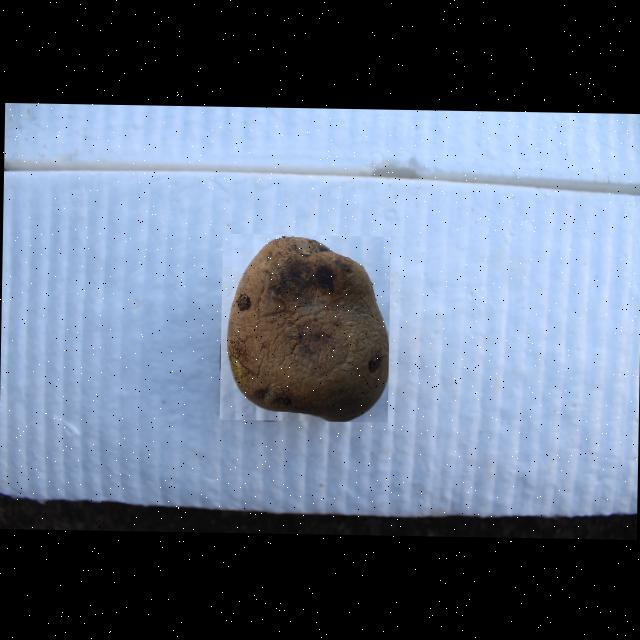Diseased-fungal potato: (218, 232, 390, 421)
